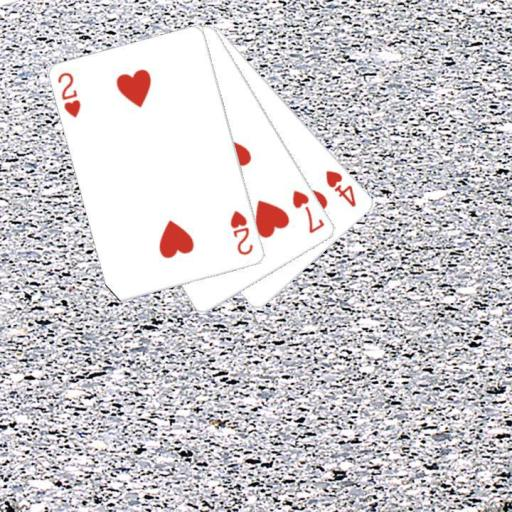2H: (228, 207, 255, 257), (55, 69, 82, 119)
4H: (322, 167, 359, 209)
7H: (290, 187, 327, 235)
